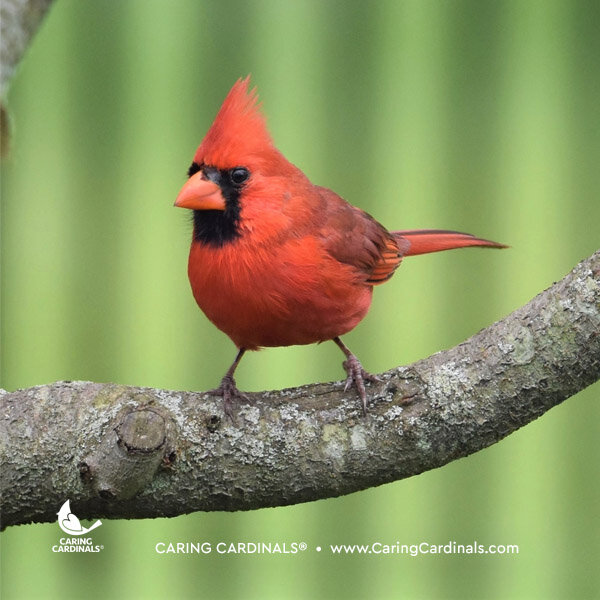bird: (186, 124, 415, 365)
